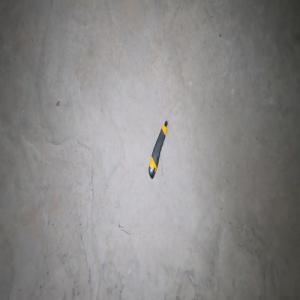Cutter: (148, 120, 168, 179)
